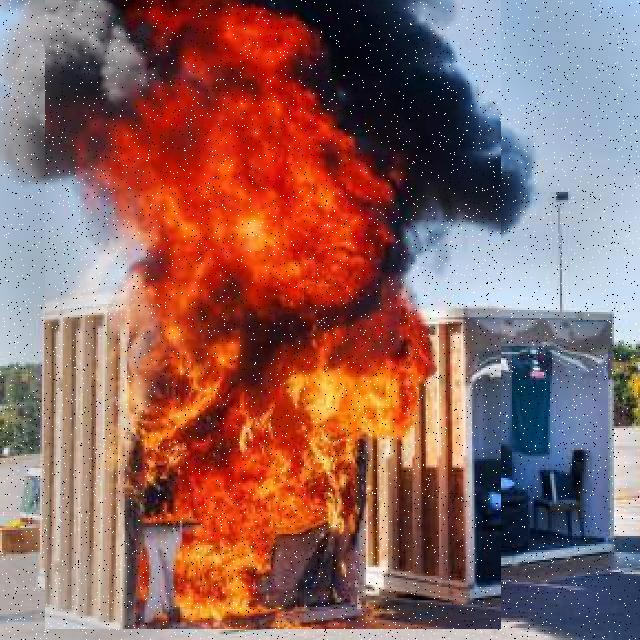fire: (45, 0, 501, 629)
